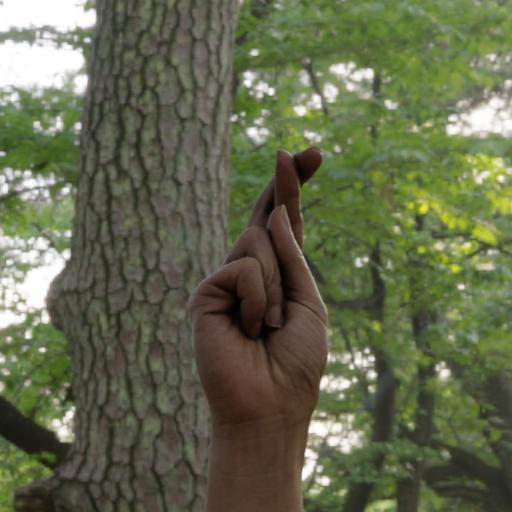R: (187, 143, 342, 432)
